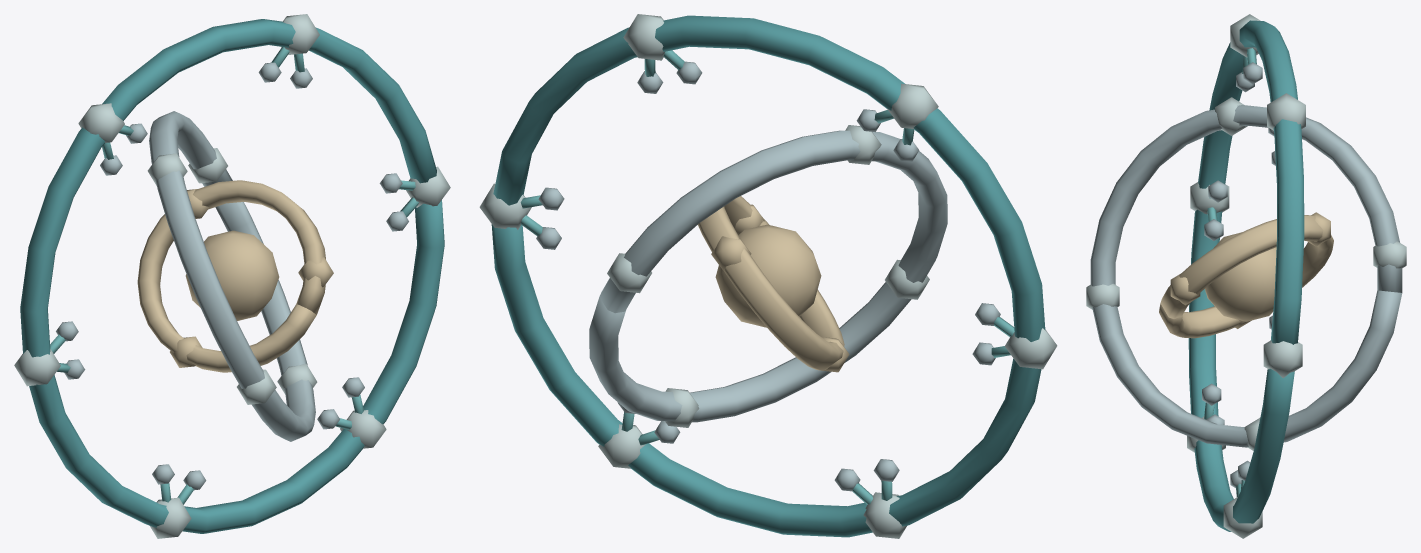
File: ART-58.glb
3 renders of one model, left to right at view 1: azimuth 30°, elevation 25°; view 2: azimuth 150°, elevation 25°; view 3: azimuth 270°, elevation 25°, orthographic. The views are drawn at different scales.
Parts seen in each view (by area): view 1: world; view 2: world; view 3: world.
Boxes of the visible parts, x1,y1,x2,y2 form: world: (14, 14, 450, 538); world: (479, 14, 1057, 538); world: (1086, 14, 1406, 538).
Bounding box in the file's own units: 2 × 1.96 × 1.23.
